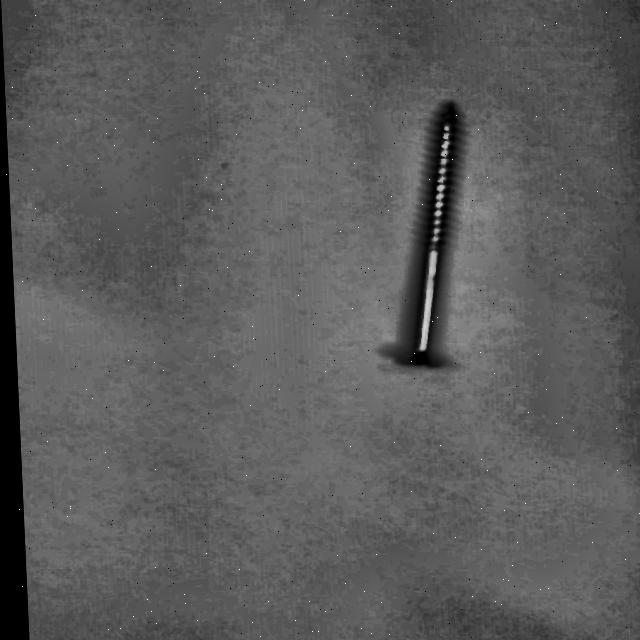Wood screw: (371, 102, 466, 370)
